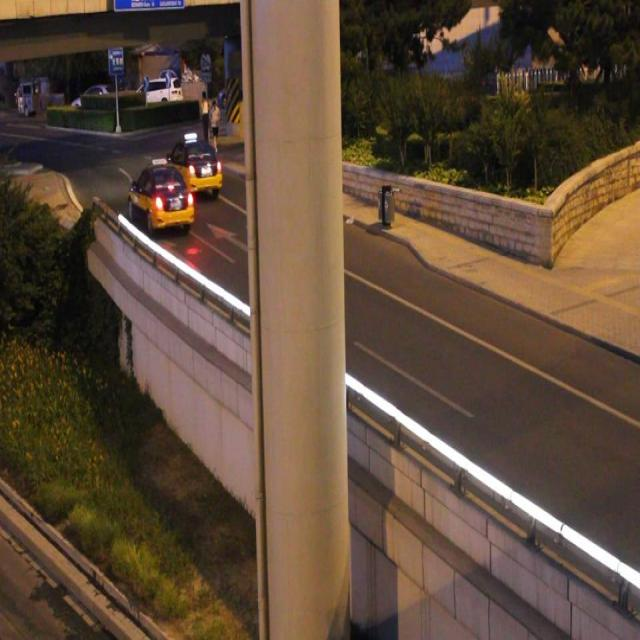car: (129, 167, 193, 228), (167, 141, 220, 197)
